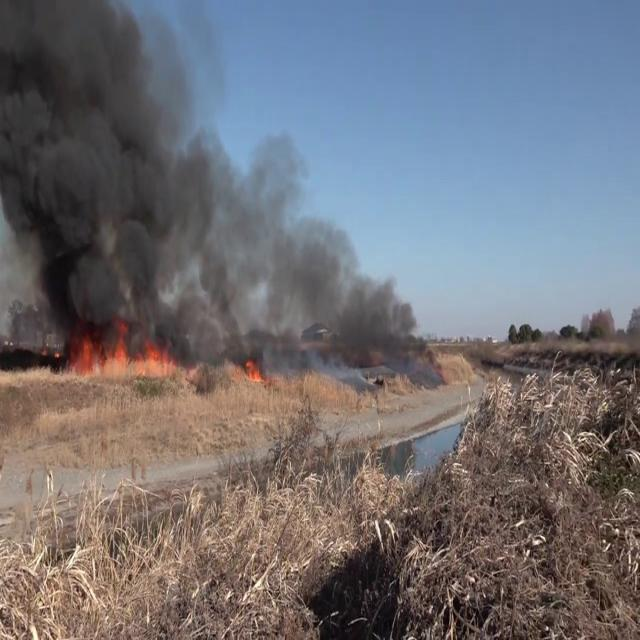Fire: (66, 316, 176, 380)
Smoke: (0, 0, 232, 347), (200, 150, 440, 372)
